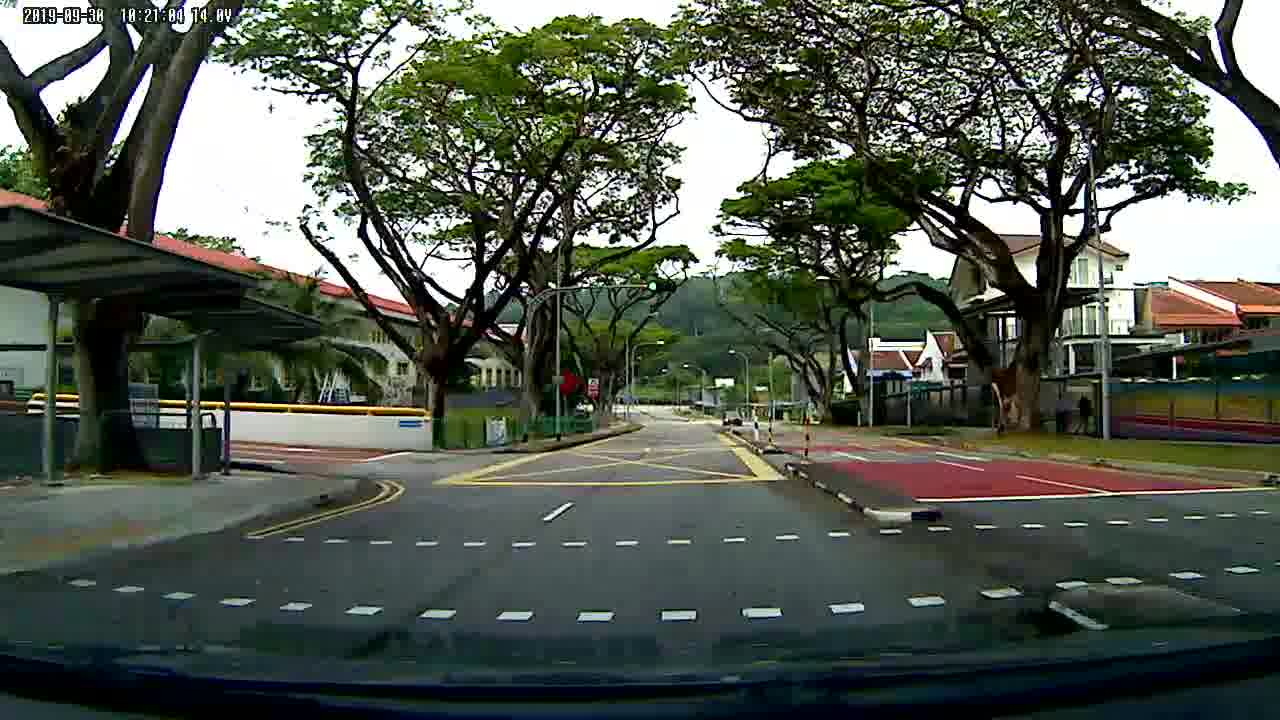car: (718, 408, 746, 429)
